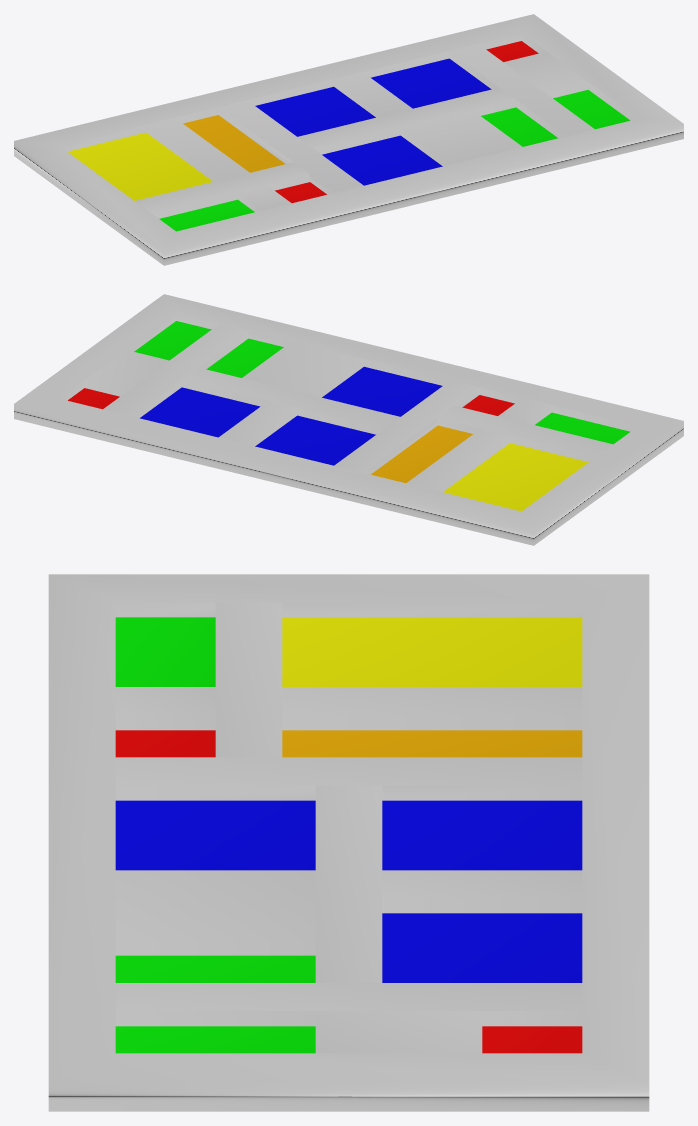
File: kit5.fbx
3 views of the same model, one above another, from view 1: azimuth 30°, elevation 25°; view 2: azimuth 150°, elevation 25°; view 3: azimuth 270°, elevation 25° (orthographic). The views are drawn at different scales.
Visible parts, largest first — view 1: Cube; view 2: Cube; view 3: Cube.
Part boxes in pixels (<box>): Cube: <box>14,14,683,265</box>; Cube: <box>14,294,683,545</box>; Cube: <box>48,574,649,1111</box>.
Bounding box in the file's own units: 229 × 6.35 × 114.
